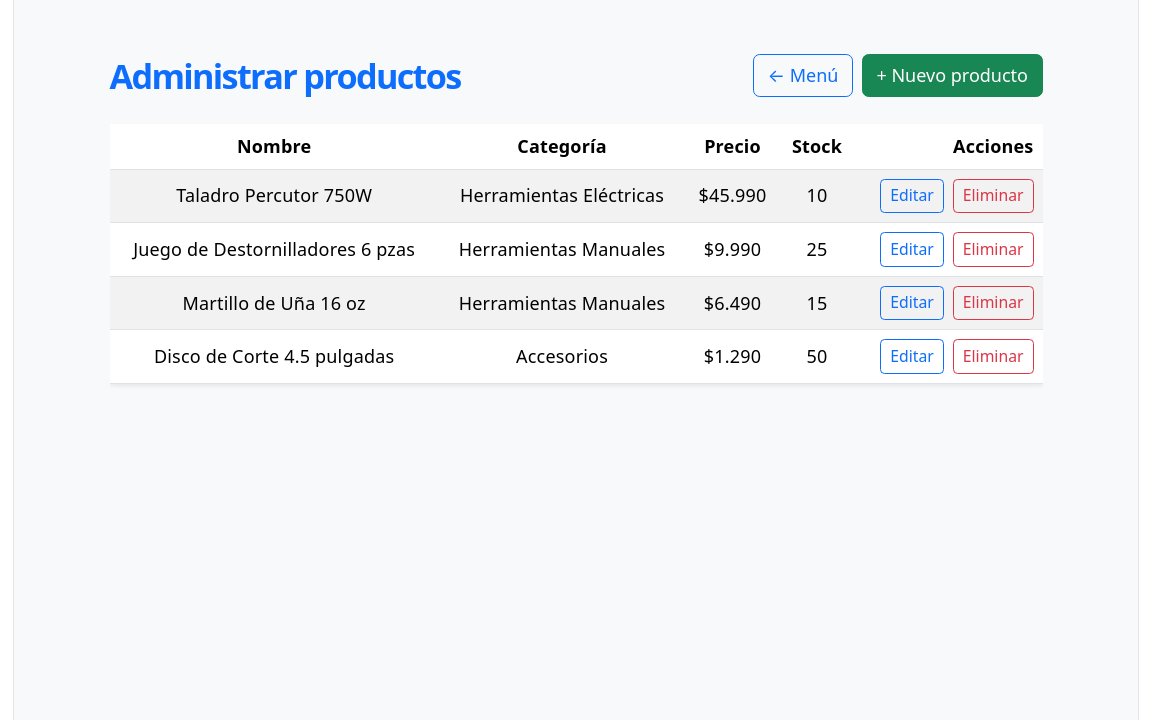
AdminProductos (página) › abre el formulario de edición y lo cierra con Cancelar
Click the button "Editar" in the row of "Taladro Percutor 750W": [912, 196] box top-left (880, 178), bottom-right (944, 213)
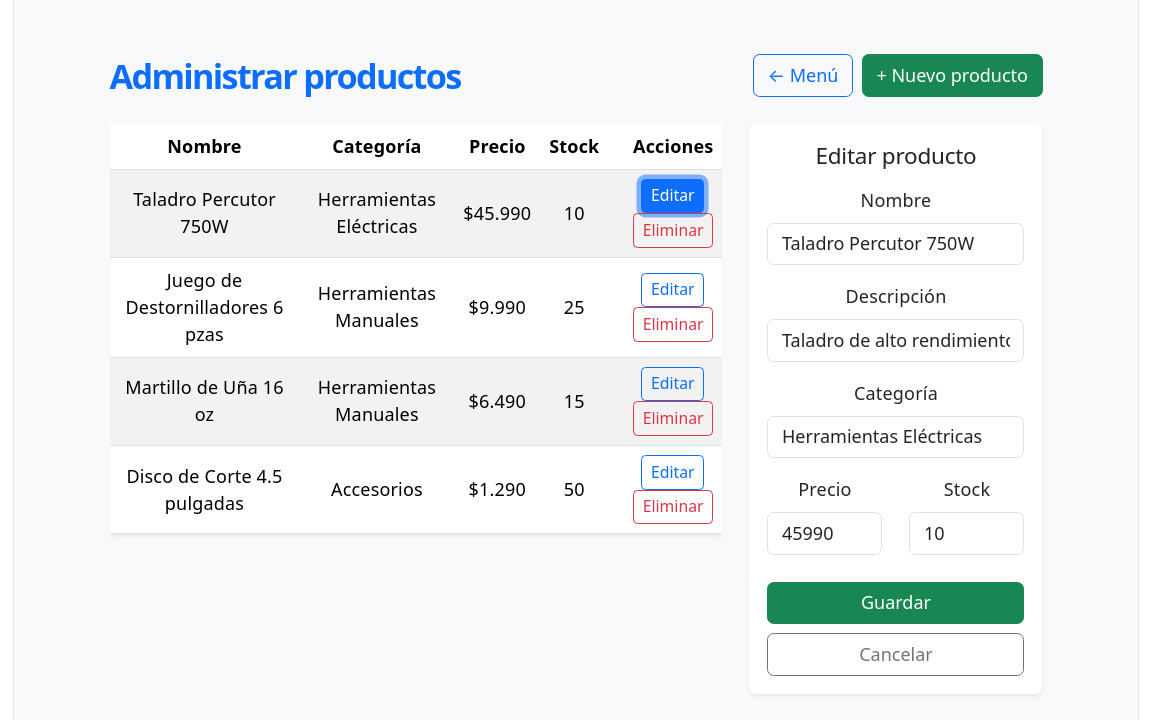
expect the heading "Editar producto" is shown: met, box top-left (816, 140), bottom-right (976, 170)
Click the button "Cancelar": [896, 654] box top-left (768, 633), bottom-right (1024, 676)
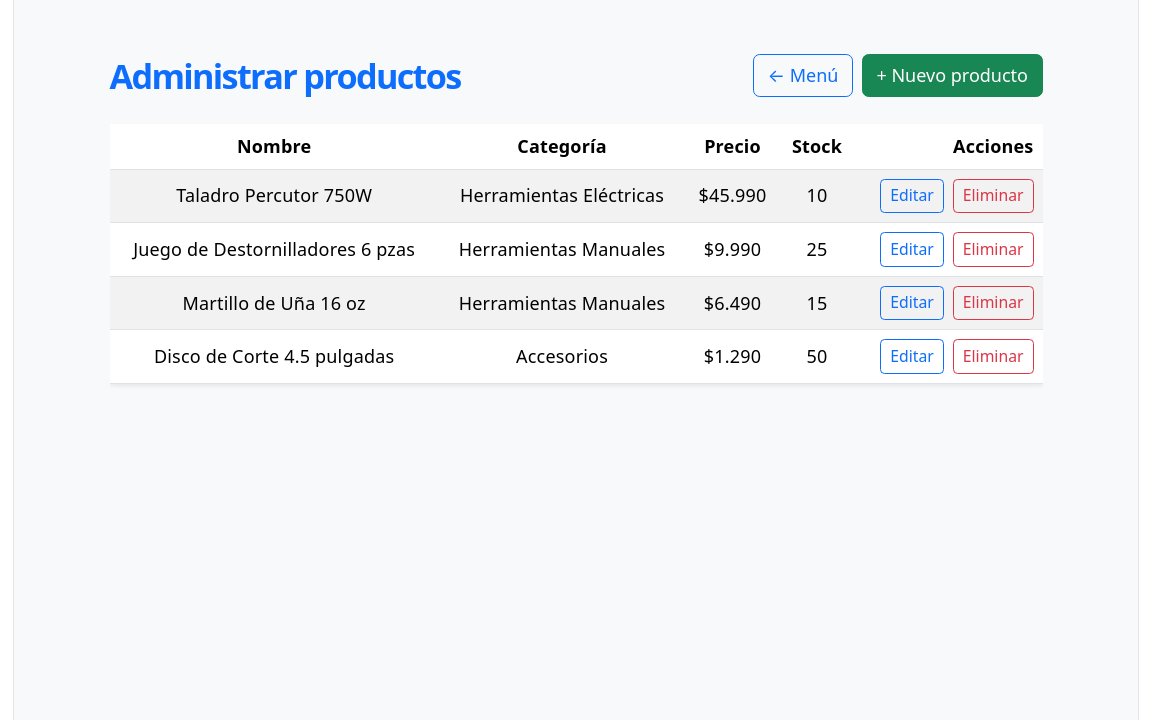
expect the heading "Editar producto" is gone: met
